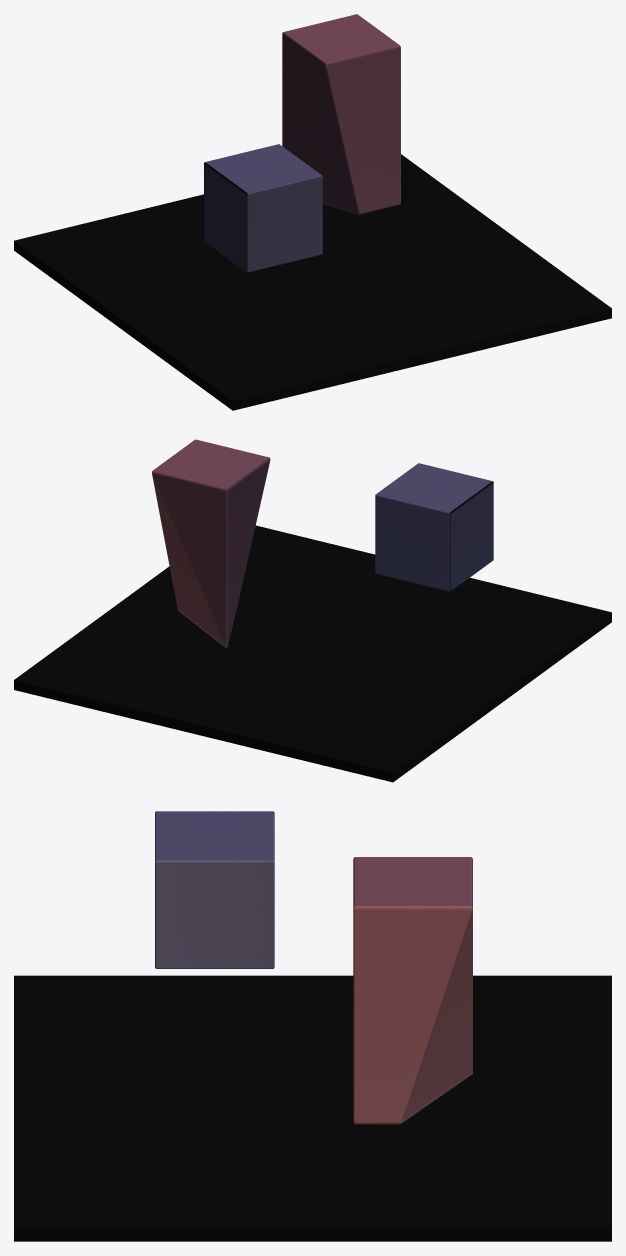
Rendered from 2024-2-8 Objektit sivulle3.glb.
The picture shows the model from 3 angles, top to bottom: view 1: azimuth 30°, elevation 25°; view 2: azimuth 150°, elevation 25°; view 3: azimuth 270°, elevation 25°; orthographic projection. The views are drawn at different scales.
Visible parts, largest first — view 1: Plane, Cube2, Cube; view 2: Plane, Cube2, Cube; view 3: Plane, Cube2, Cube.
Boxes of the visible parts, x1=… form: Plane: x1=14, y1=154, x2=611, y2=410; Cube2: x1=282, y1=14, x2=400, y2=214; Cube: x1=204, y1=144, x2=322, y2=272; Plane: x1=14, y1=525, x2=611, y2=782; Cube2: x1=152, y1=439, x2=270, y2=648; Cube: x1=375, y1=463, x2=493, y2=591; Plane: x1=14, y1=975, x2=611, y2=1241; Cube2: x1=353, y1=857, x2=472, y2=1124; Cube: x1=155, y1=811, x2=274, y2=968.
Size of the model in its own units: 10 by 5.12 by 10.
Materials: 3 (3 with a texture image).
